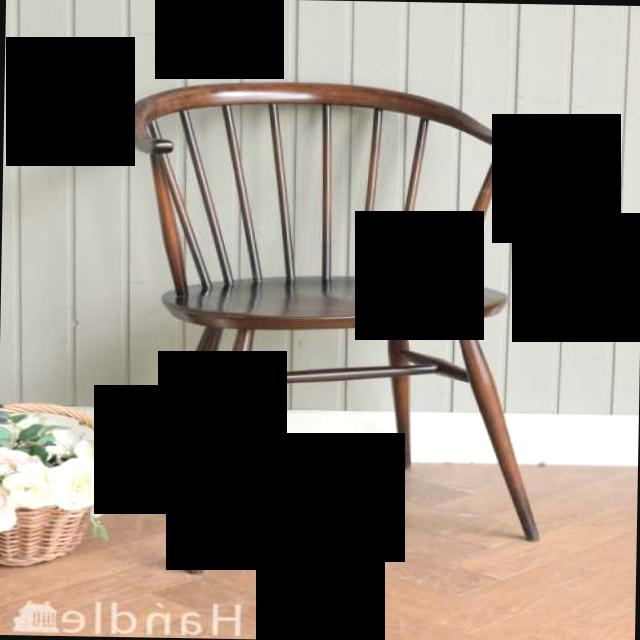chair vintage: (149, 72, 556, 585)
